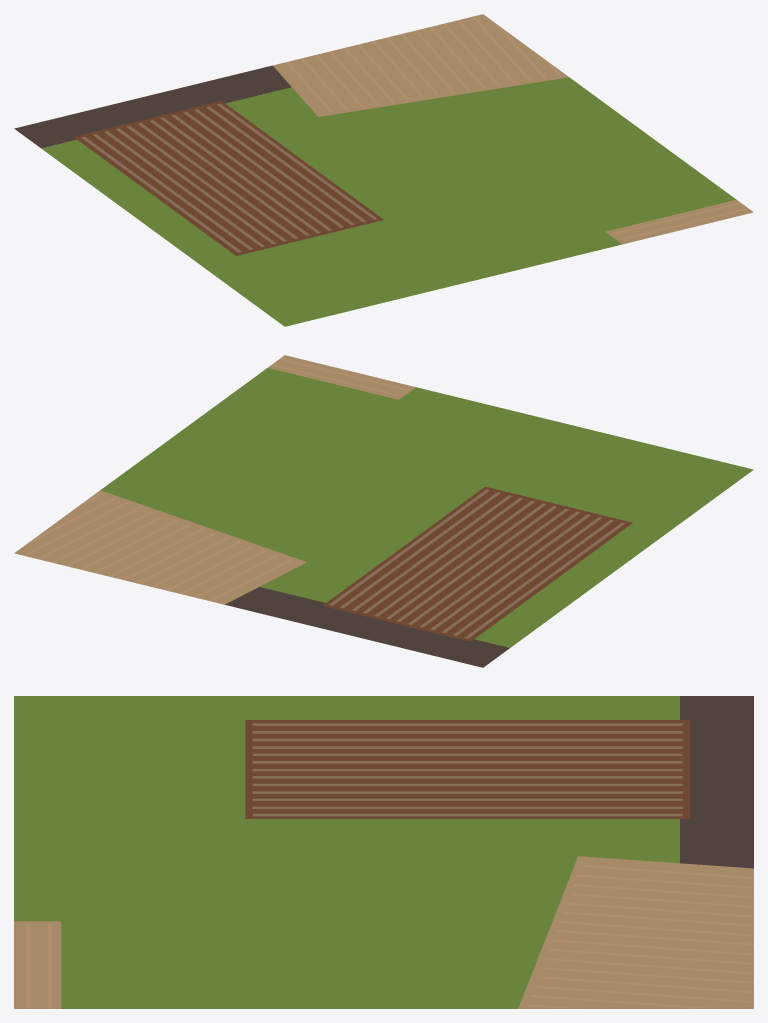
File: crossing-10-5.glb
3 renders of one model, top to bottom at view 1: azimuth 30°, elevation 25°; view 2: azimuth 150°, elevation 25°; view 3: azimuth 270°, elevation 25°, orthographic. The views are drawn at different scales.
Visible parts, largest first — view 1: crossing-10-5; view 2: crossing-10-5; view 3: crossing-10-5.
Boxes of the visible parts, x1=… form: crossing-10-5: x1=14, y1=14, x2=753, y2=326; crossing-10-5: x1=14, y1=355, x2=753, y2=667; crossing-10-5: x1=14, y1=696, x2=753, y2=1008.
Bounding box in the file's own units: 100 × 0.0064 × 100.
